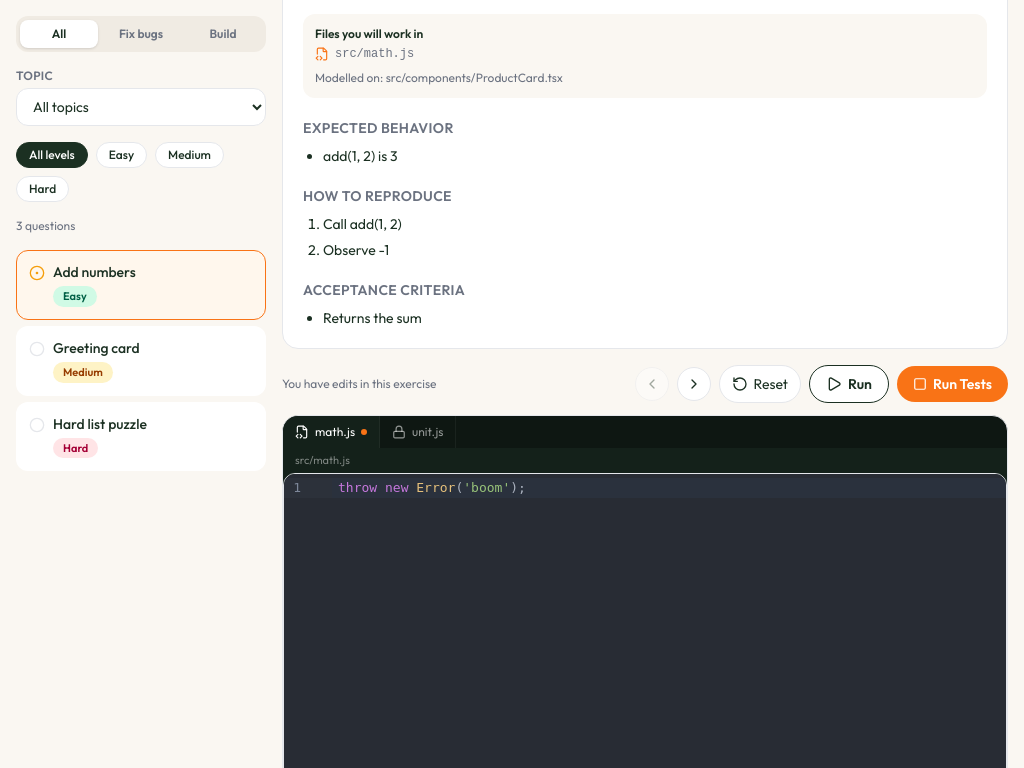
it: running tests › reports runtime errors thrown while loading the code, naming the file
The width and height of the screenshot is (1024, 768).
(page scrolled)
Click the button "Run Tests" at (952, 384), box [897,366,1008,402]
(page scrolled)
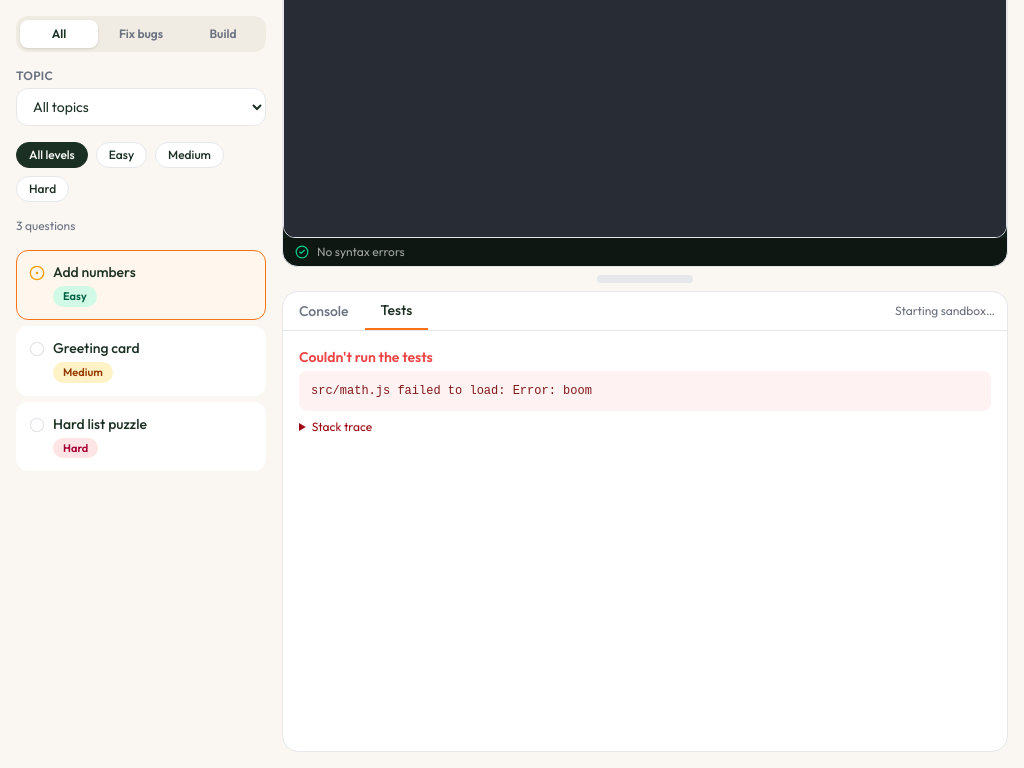
expect the message "Couldn't run the tests src/math.js failed to load: Error: boom Stack trace" is shown: met, box [283,331,1007,451]
